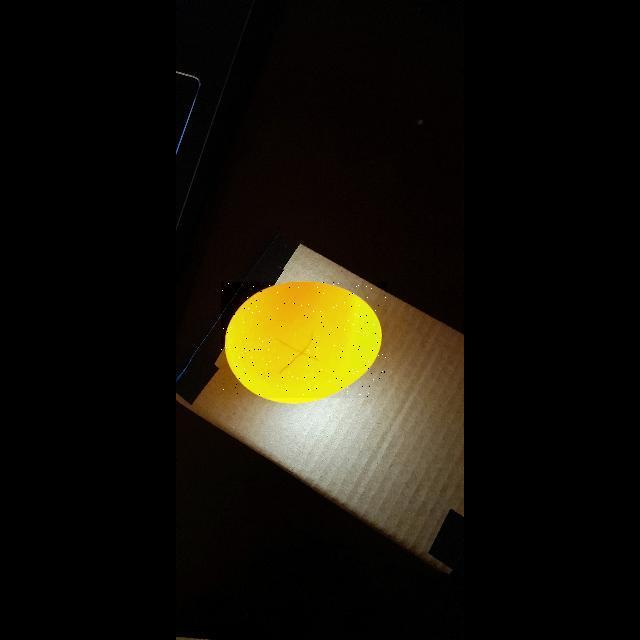A - Good: (216, 274, 388, 410)
